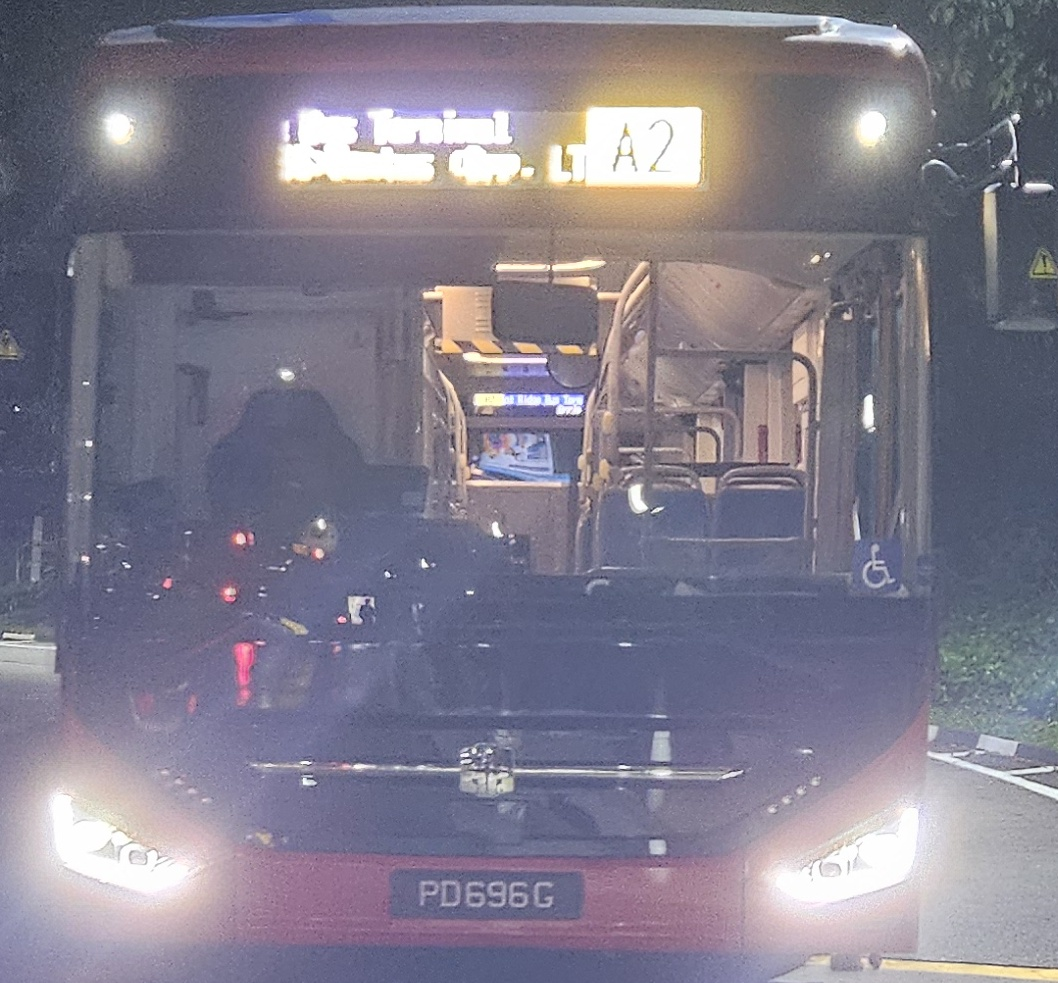bus: (591, 103, 694, 186)
